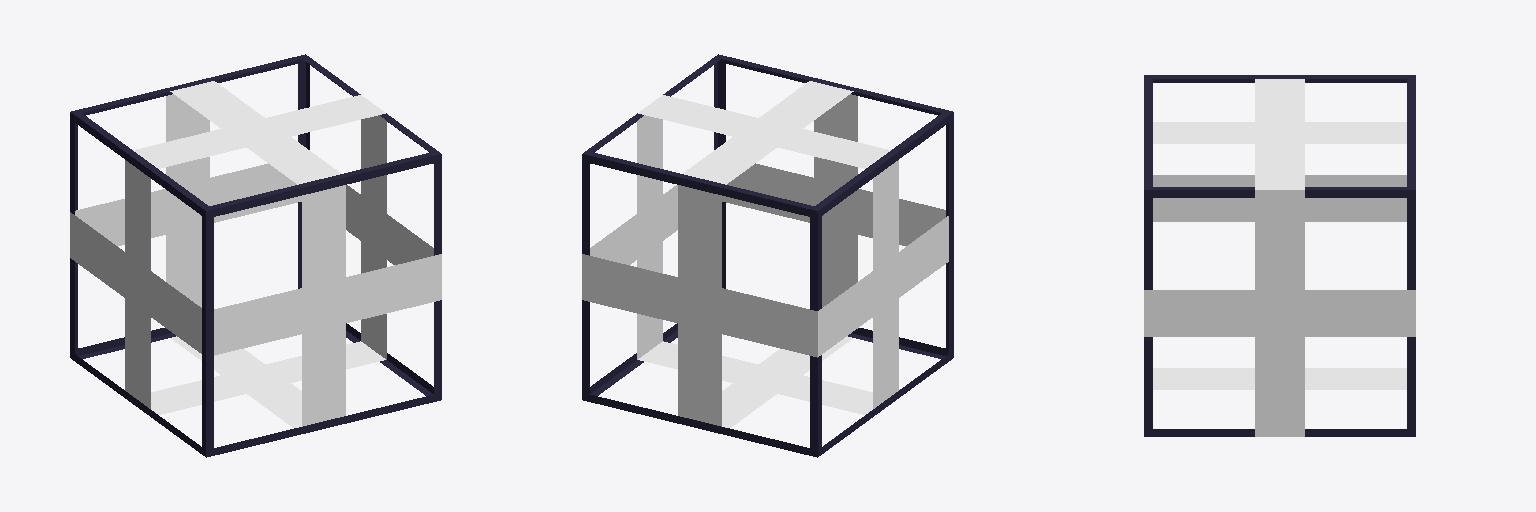
3 renders of one model, left to right at view 1: azimuth 30°, elevation 25°; view 2: azimuth 150°, elevation 25°; view 3: azimuth 270°, elevation 25°, orthographic.
Parts seen in each view (by area): view 1: Cube; view 2: Cube; view 3: Cube.
Part boxes in pixels (x1,y1,x2,y2): Cube: (70,54,441,457); Cube: (582,54,953,457); Cube: (1144,75,1415,436).
Size of the model in its own units: 2 by 2 by 2.
1 materials, 1 textured.